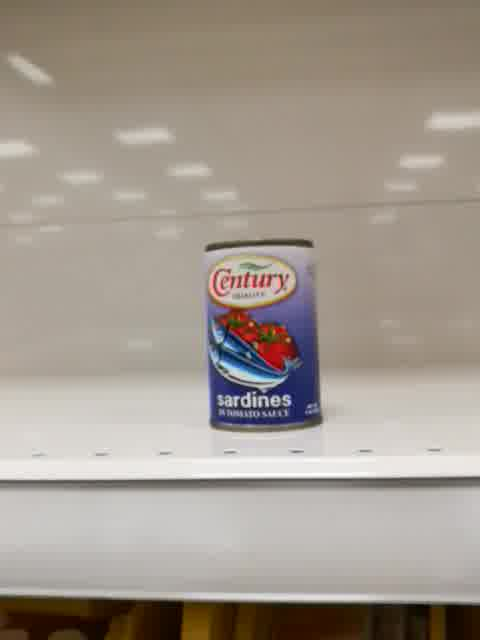sardine: (202, 237, 323, 434)
